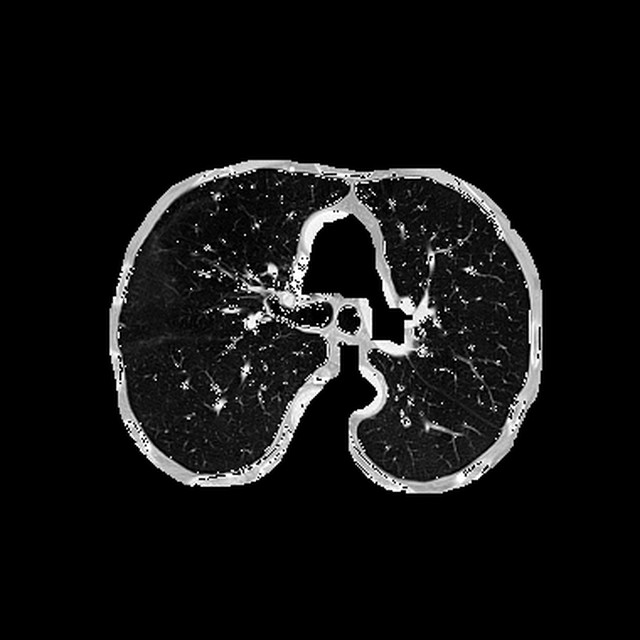PN: (211, 190, 221, 200)
